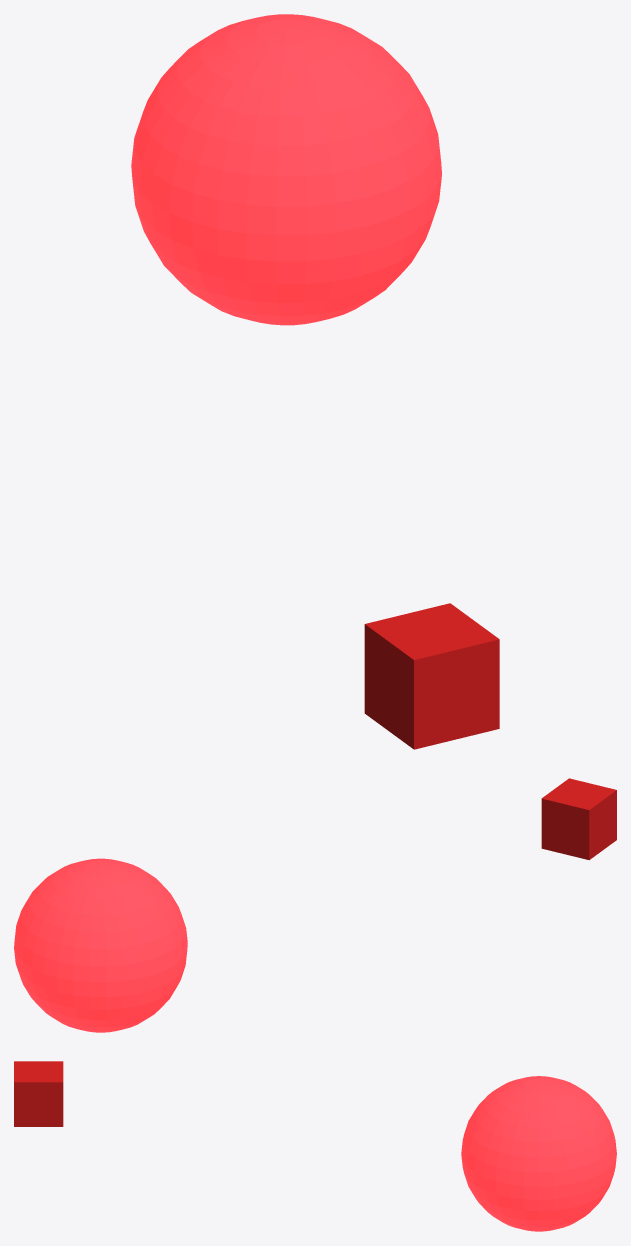
Rendered from cube_particles_1.glb.
3 renders of one model, top to bottom at view 1: azimuth 30°, elevation 25°; view 2: azimuth 150°, elevation 25°; view 3: azimuth 270°, elevation 25°, orthographic. The views are drawn at different scales.
Parts seen in each view (by area): view 1: Sphere, Cube; view 2: Sphere, Cube; view 3: Sphere, Cube.
Part boxes in pixels (x1,y1,x2,y2): Sphere: (131,14,441,325); Cube: (364,603,499,749); Sphere: (14,858,187,1032); Cube: (541,778,616,860); Sphere: (461,1076,616,1231); Cube: (14,1061,63,1126).
Bounding box in the file's own units: 3.95 × 2 × 7.74.
